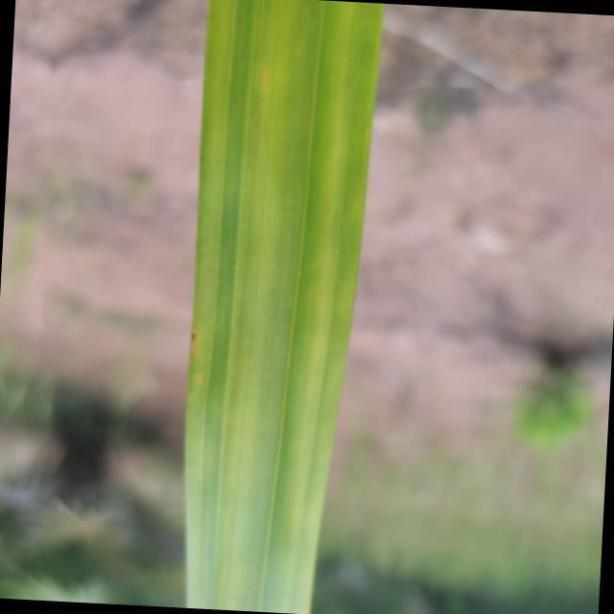nitrogen: (176, 0, 382, 614)
